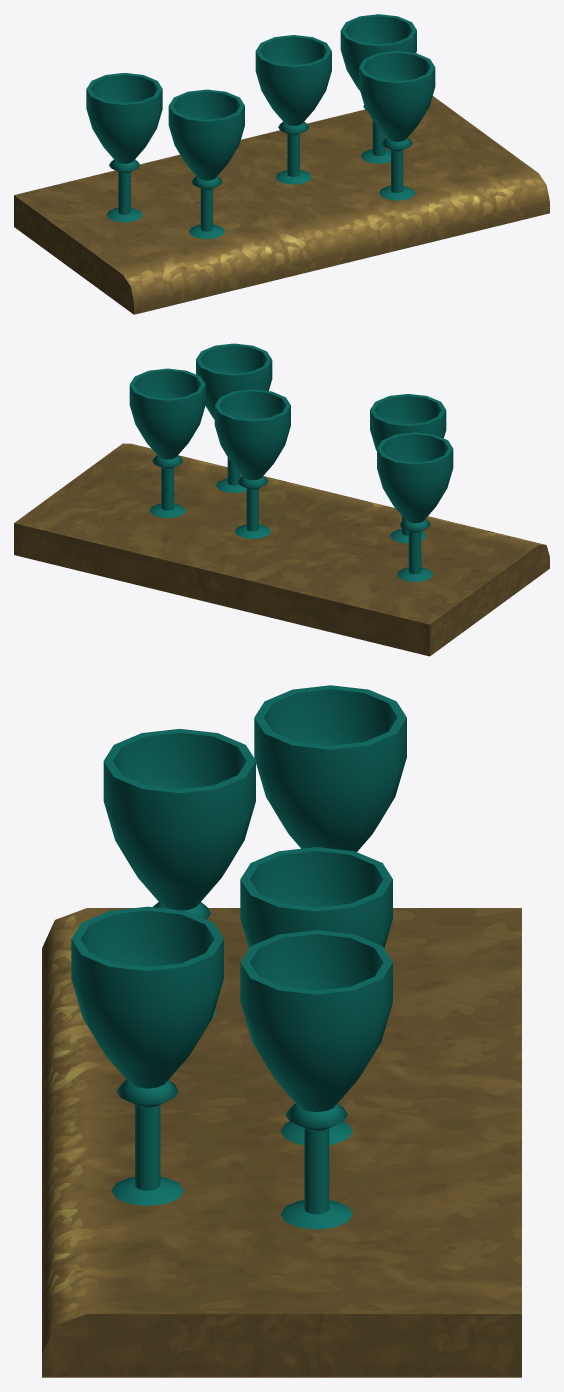
Rendered from DI_101_glasses_on_shelf.glb.
3 views of the same model, one above another, from view 1: azimuth 30°, elevation 25°; view 2: azimuth 150°, elevation 25°; view 3: azimuth 270°, elevation 25° (orthographic). The views are drawn at different scales.
Parts seen in each view (by area): view 1: Shelf, Glass.011, Glass.010, Glass.007, Glass.009, Glass.008; view 2: Shelf, Glass.011, Glass.007, Glass.008, Glass.009, Glass.010; view 3: Shelf, Glass.008, Glass.009, Glass.010, Glass.011, Glass.007.
Part boxes in pixels (x1,y1,x2,y2): Shelf: (14, 96, 549, 314); Glass.011: (86, 73, 162, 222); Glass.010: (168, 89, 244, 239); Glass.007: (255, 35, 331, 184); Glass.009: (359, 51, 435, 200); Glass.008: (340, 14, 416, 163); Shelf: (14, 443, 549, 656); Glass.011: (377, 432, 453, 581); Glass.007: (214, 389, 290, 538); Glass.008: (129, 368, 205, 518); Glass.009: (196, 343, 272, 492); Glass.010: (370, 394, 446, 543); Shelf: (42, 908, 521, 1377); Glass.008: (240, 930, 392, 1229); Glass.009: (71, 906, 223, 1205); Glass.010: (103, 729, 255, 1020); Glass.011: (254, 685, 406, 851); Glass.007: (240, 847, 392, 1144).
Size of the model in its own units: 1.5 by 0.5436 by 0.75.
2 materials, 1 textured.
